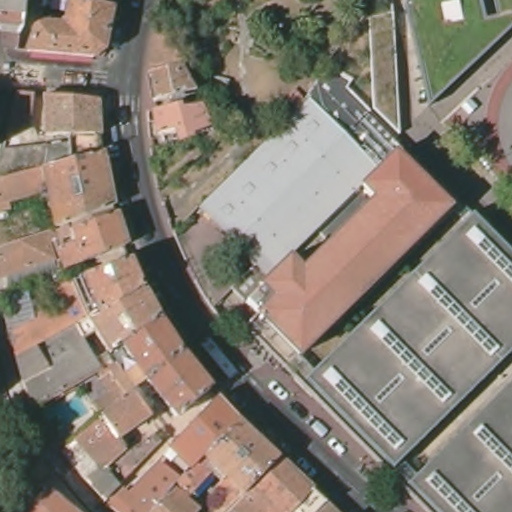pool: (35, 389, 93, 433)
